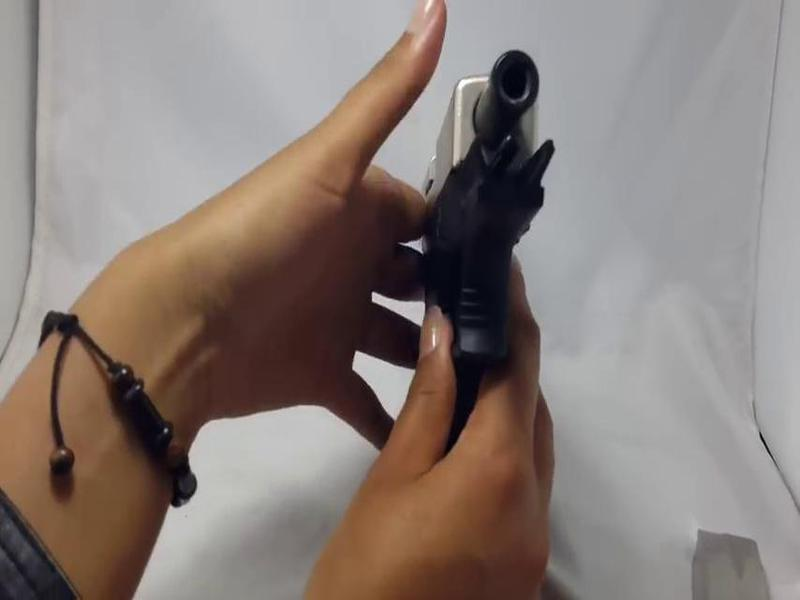Pistola: (317, 37, 609, 469)
